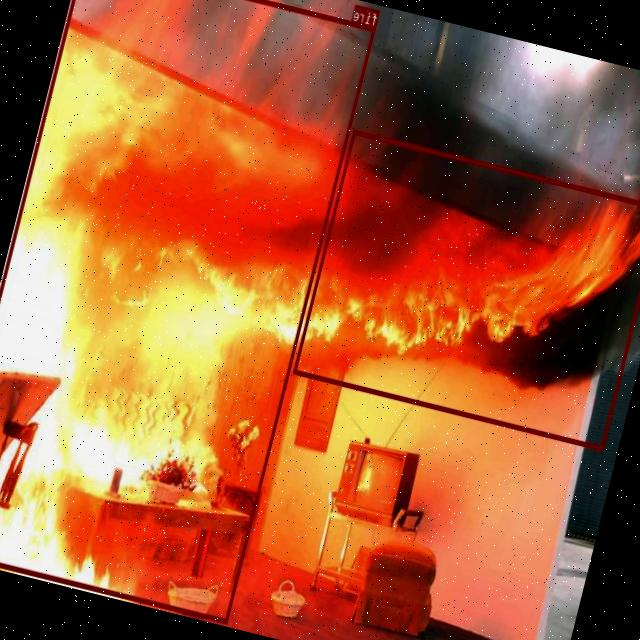fire: (0, 0, 377, 623), (293, 128, 640, 449)
